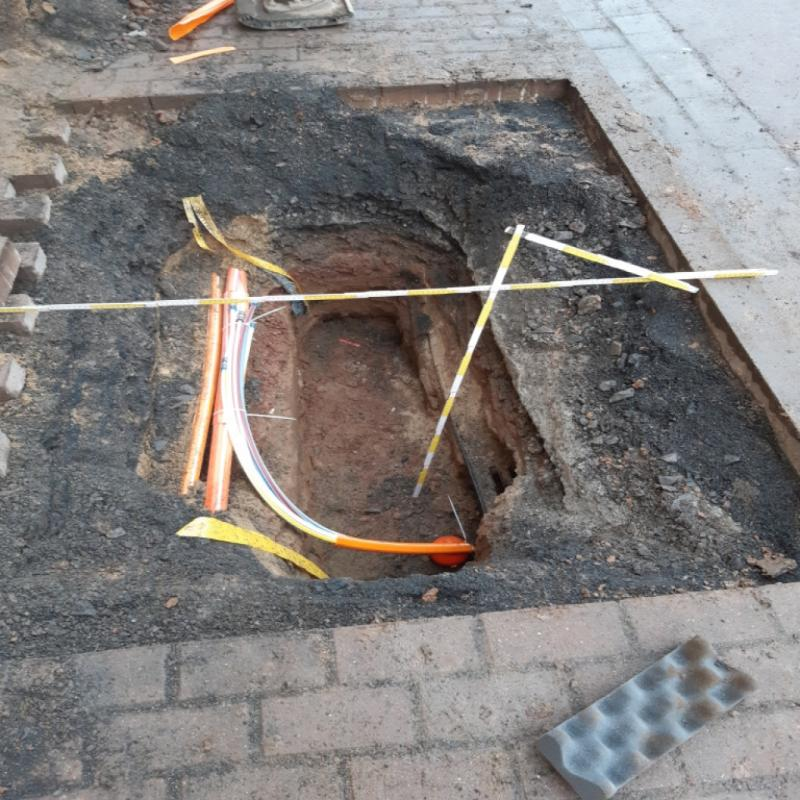Kugelmarker: (430, 535, 470, 566)
Orang-Speednetrohrchen: (267, 503, 475, 554), (184, 306, 222, 476)
